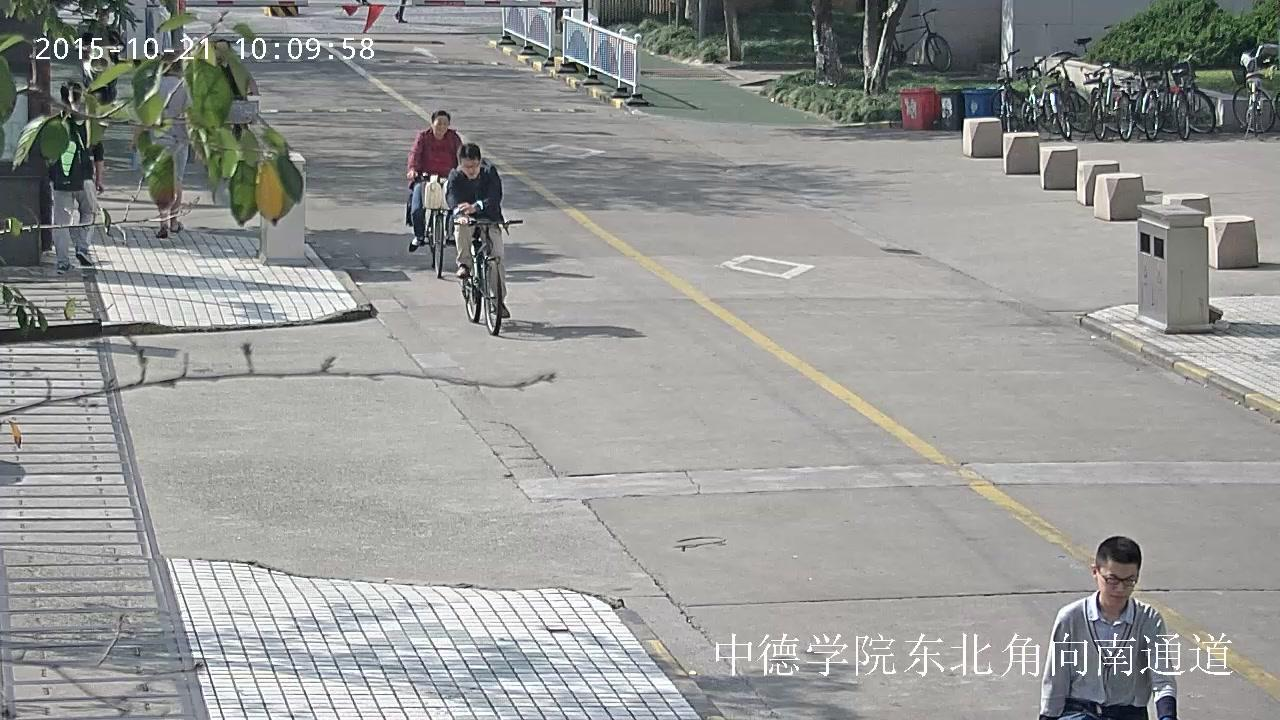face: (1098, 559, 1136, 605), (461, 157, 479, 179), (434, 114, 447, 135), (96, 9, 106, 22)
